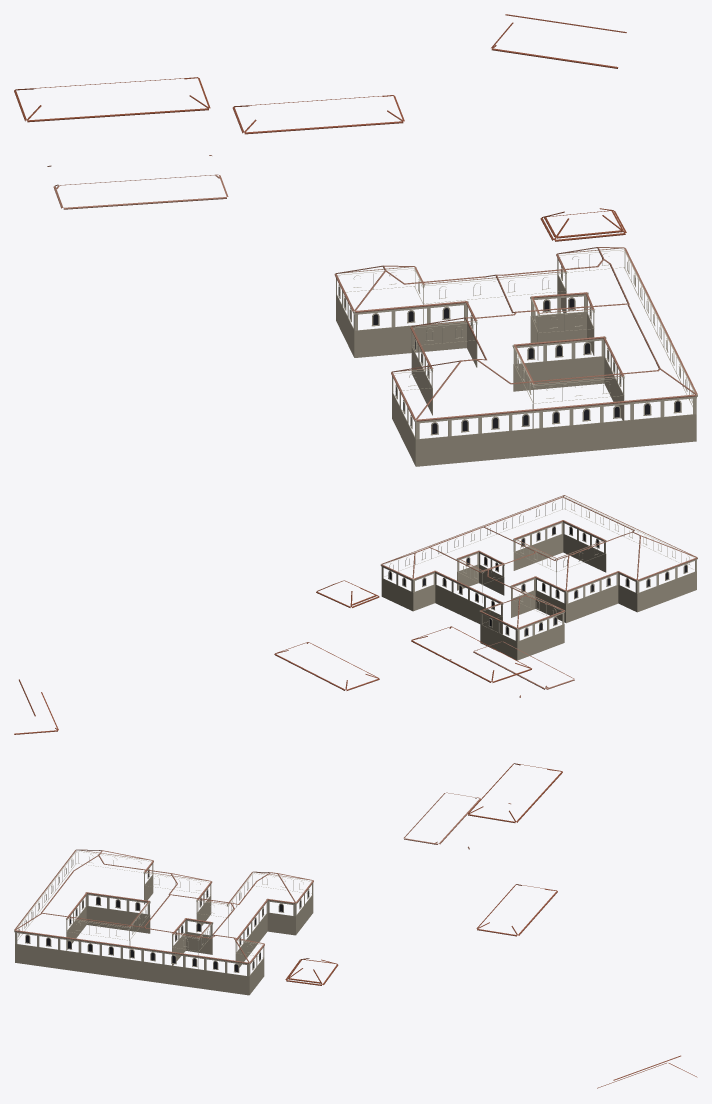
The picture shows the model from 3 angles, top to bottom: view 1: azimuth 30°, elevation 25°; view 2: azimuth 150°, elevation 25°; view 3: azimuth 270°, elevation 25°; orthographic projection. The views are drawn at different scales.
Visible parts, largest first — view 1: detail; view 2: detail; view 3: detail.
Boxes of the visible parts, left/top/right/bottom form: detail: left=14, top=14, right=697, bottom=466; detail: left=14, top=495, right=697, bottom=734; detail: left=14, top=763, right=697, bottom=1088.
Bounding box in the file's own units: 133 × 29.24 × 165.
